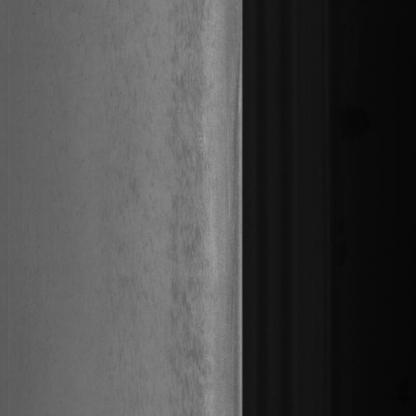silk_spot: (163, 42, 204, 393)
